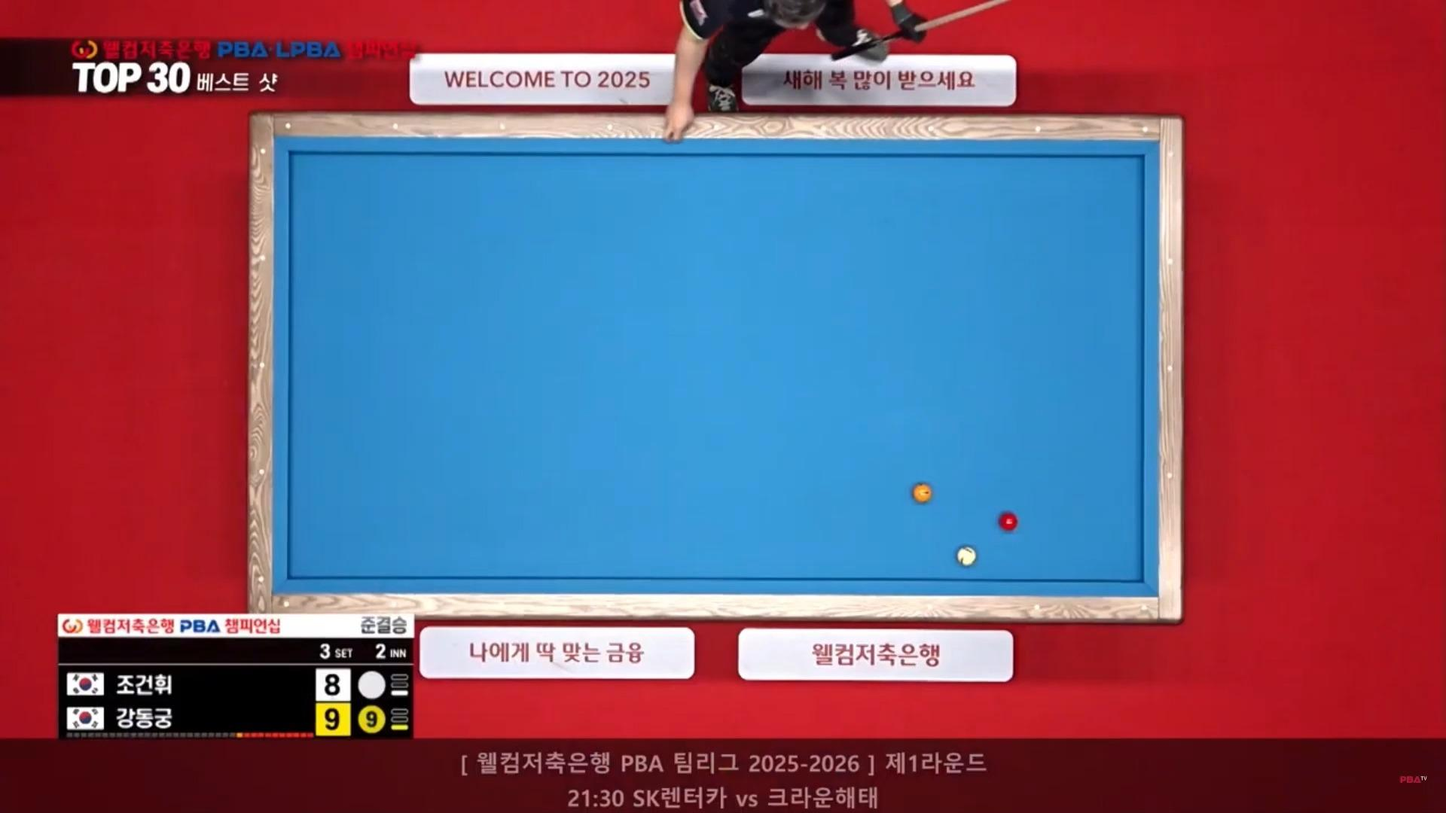Red: (1001, 515, 1024, 533)
White: (955, 546, 979, 566)
billiard-ball-Yellow: (911, 482, 933, 507)
